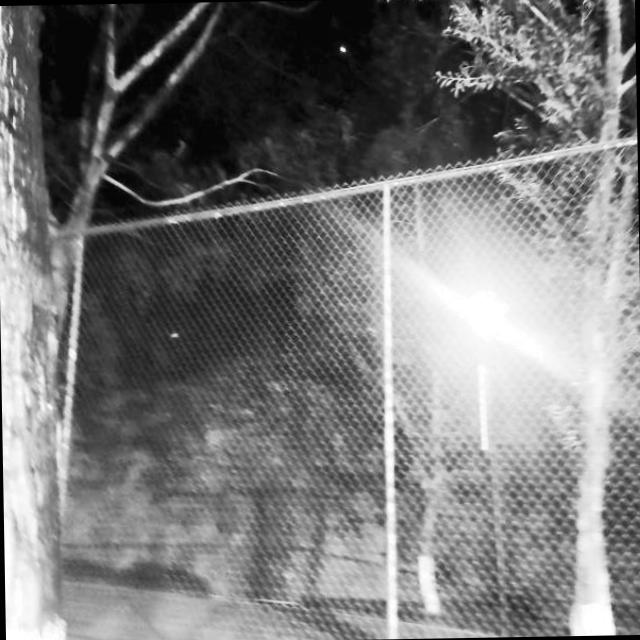Light: (454, 276, 524, 638)
Tree: (0, 3, 111, 640), (541, 0, 640, 636)
